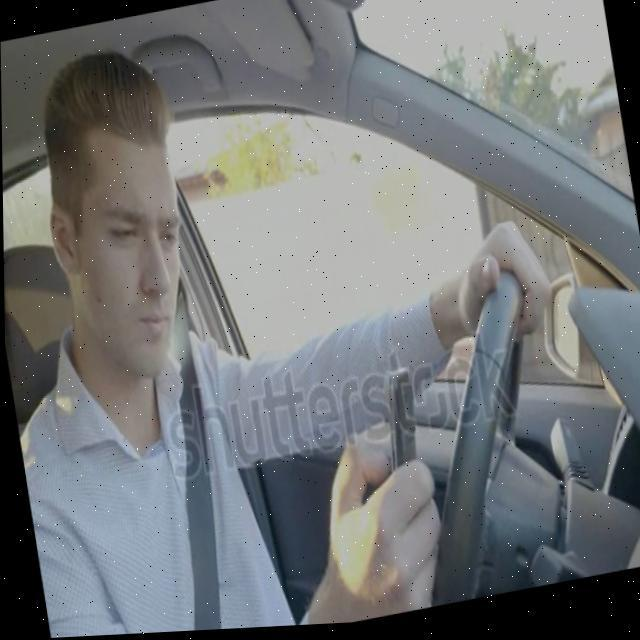PhoneCall: (374, 367, 430, 522)
